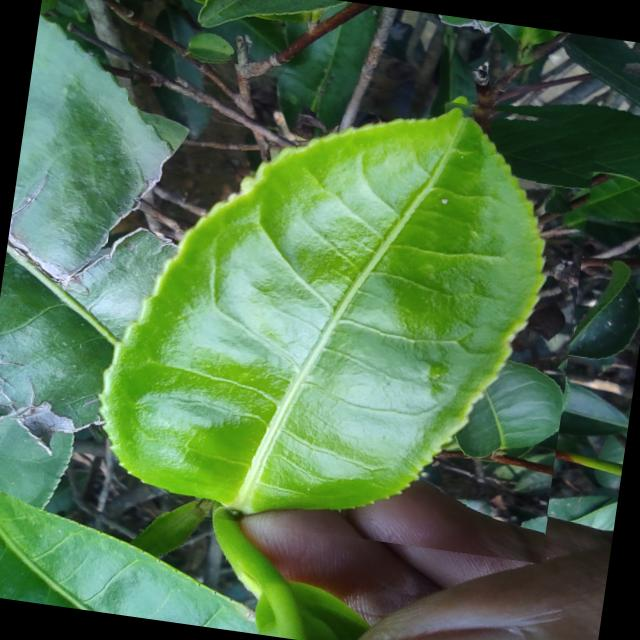Category C(4-7 days): (72, 44, 605, 564)
